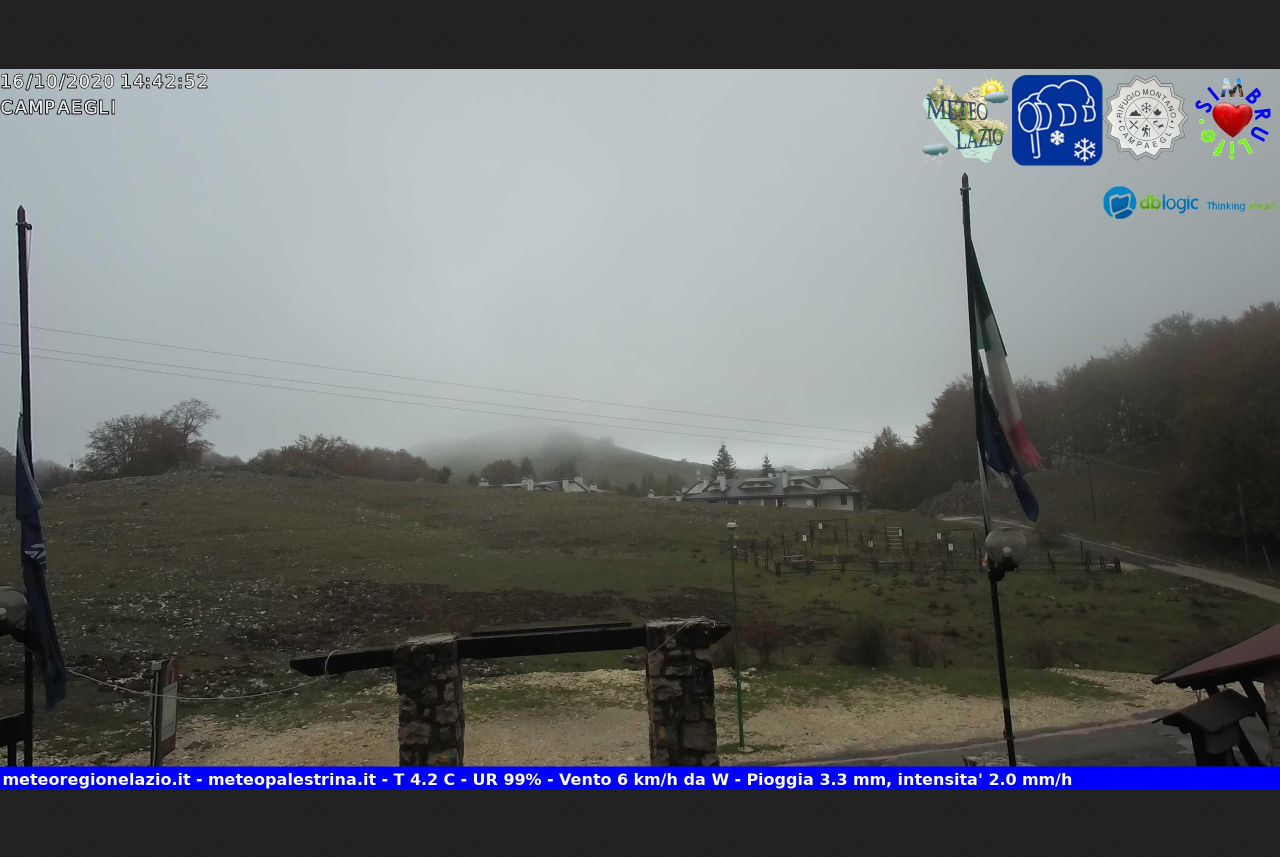no: (960, 226, 1046, 468), (968, 349, 1044, 522)
